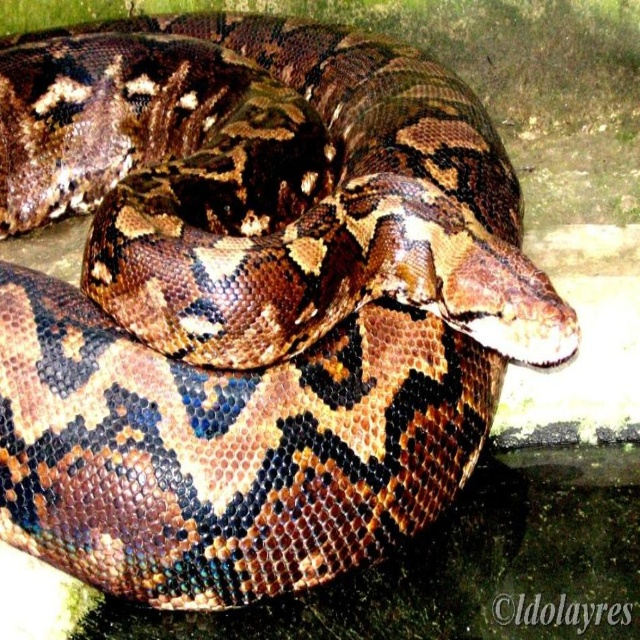Snake: (0, 10, 579, 609)
